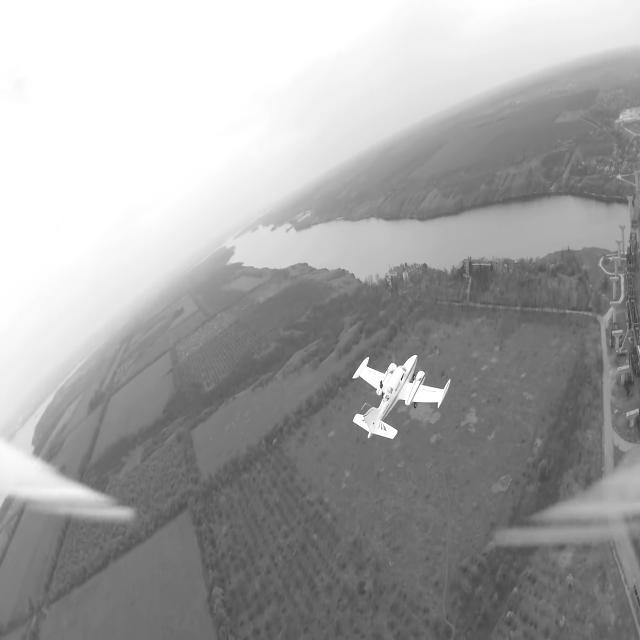iha: (378, 370, 425, 411)
